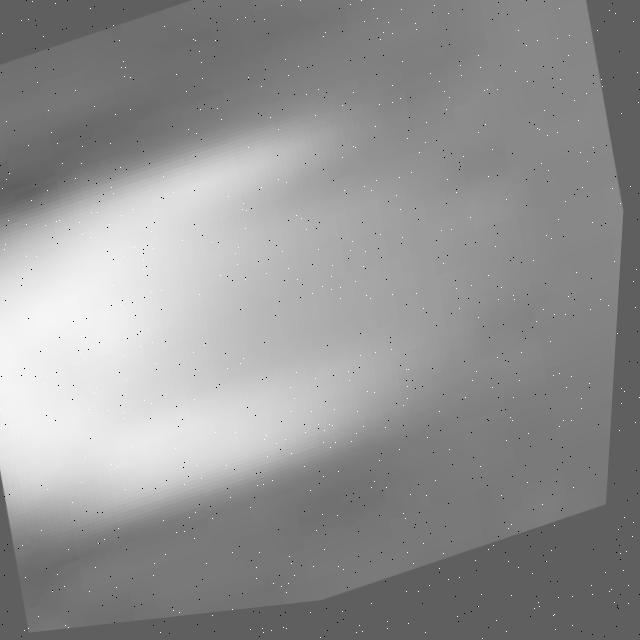person: (1, 50, 544, 558)
